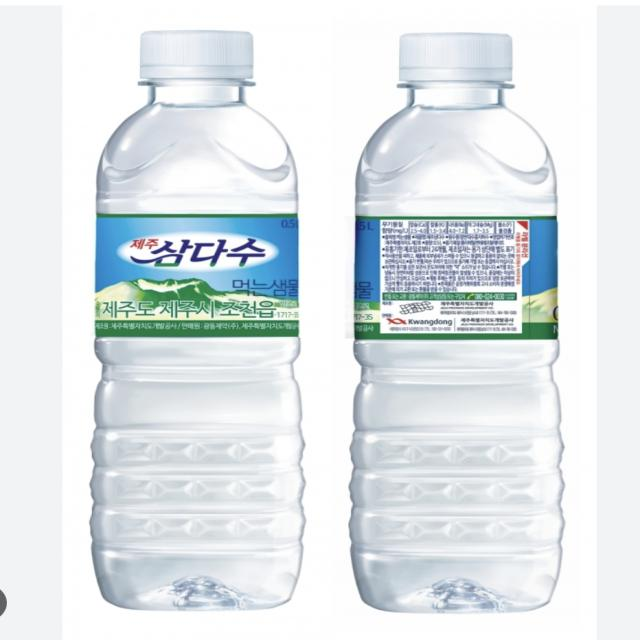recyclable: (69, 21, 348, 626), (320, 15, 588, 632)
